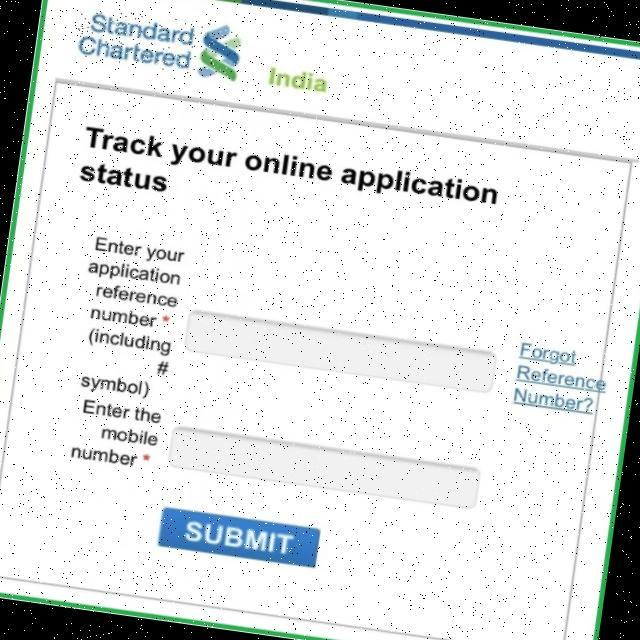Standard Chartered: (74, 6, 245, 80)
